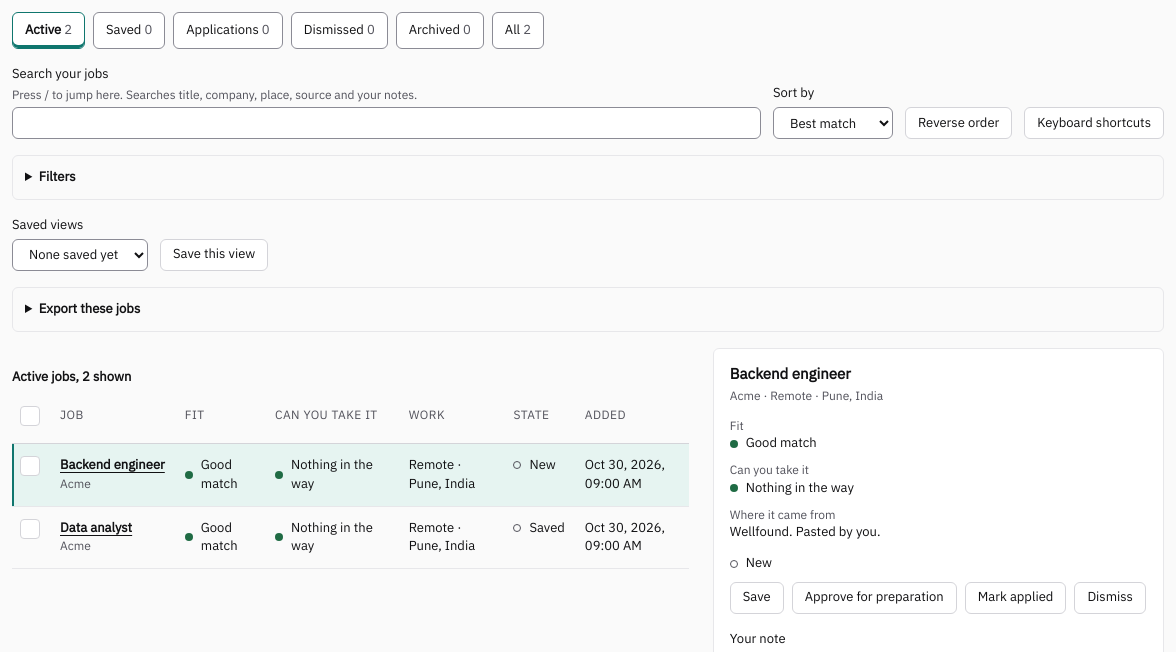
Test: Workbench › acts on the checked jobs together, only with actions they all have
The image size is (1176, 652).
Click the checkbox named "Select Backend engineer": (30, 466) left=20, top=456, right=40, bottom=476
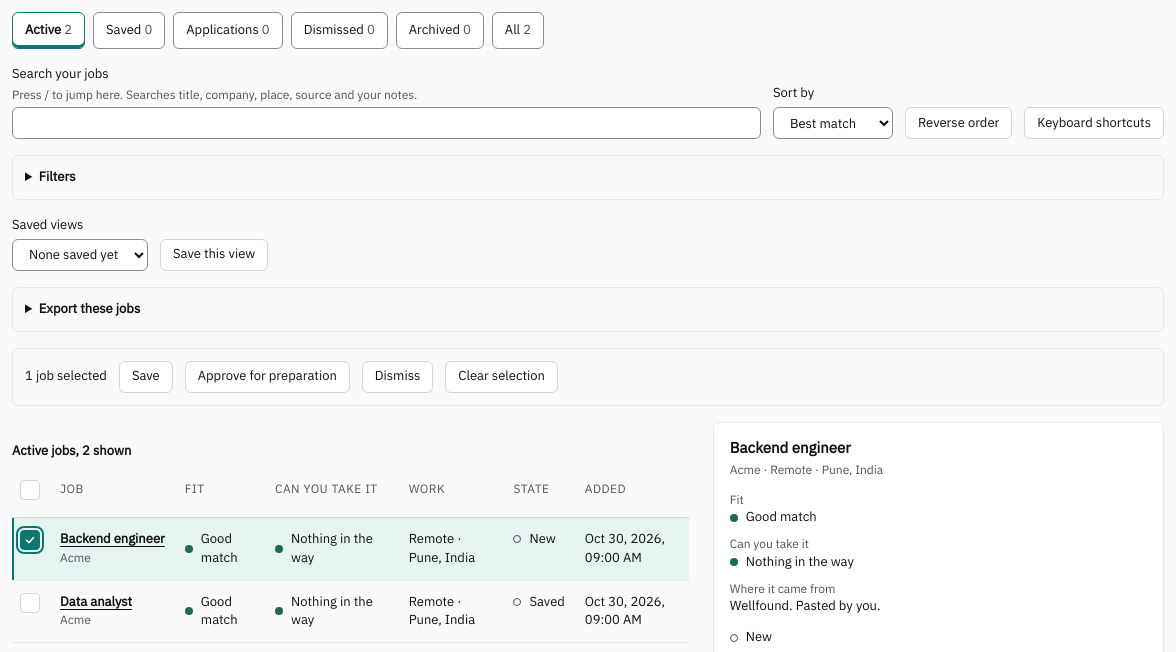
Click the checkbox named "Select Data analyst": (30, 602) left=20, top=592, right=40, bottom=612
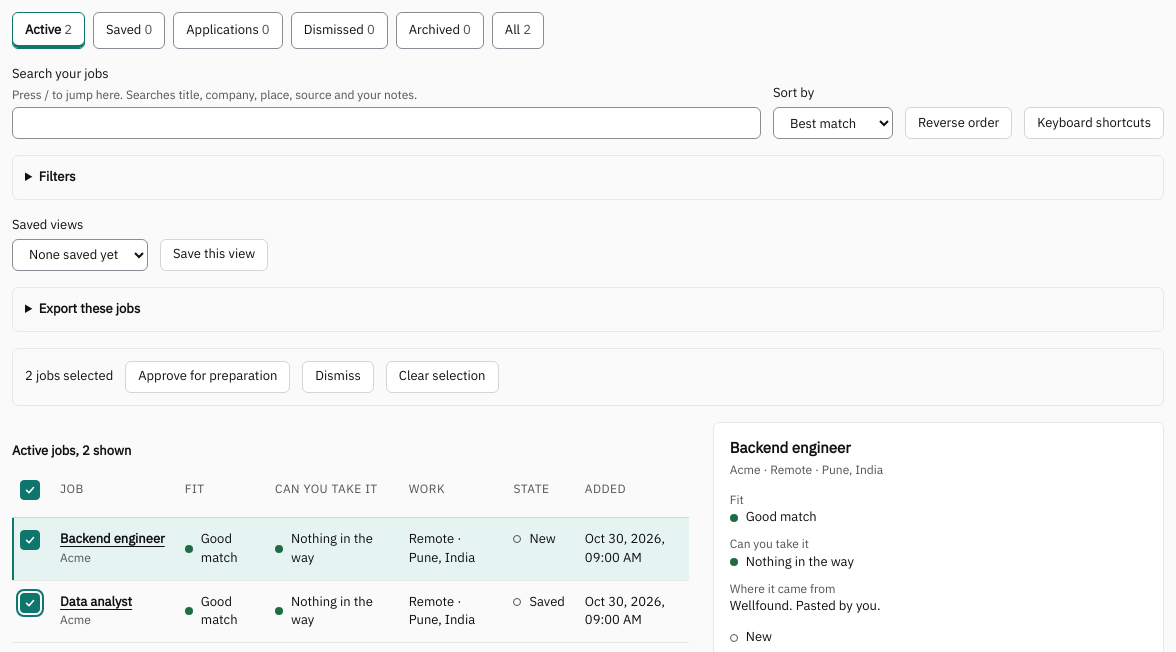
Result: the element named "Actions for the selected jobs" shows "2 jobs selected" at left=12, top=348, right=1164, bottom=406
Click the button "Dismiss" in the row of "selected": (338, 377) left=302, top=361, right=374, bottom=393
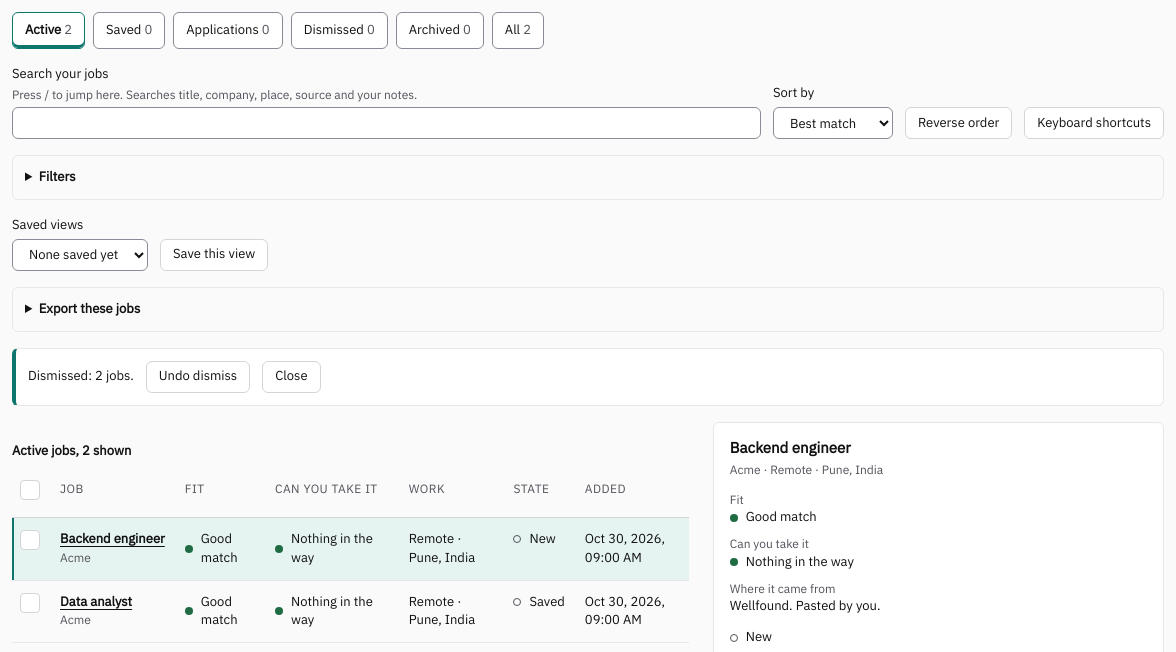
Result: the text "Dismissed: 2 jobs." is shown at left=28, top=367, right=134, bottom=386
